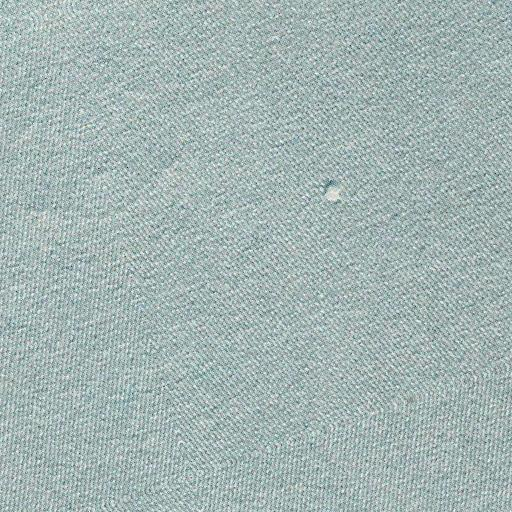knot: (312, 168, 357, 213)
